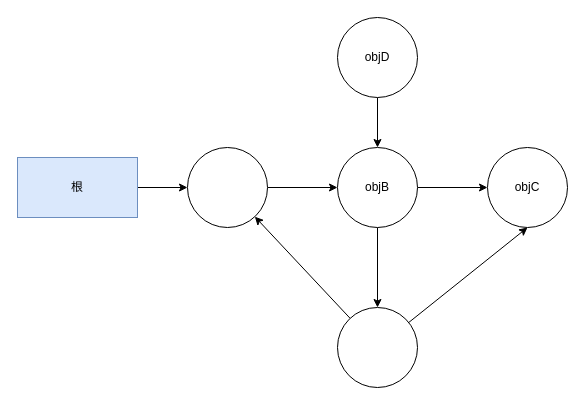
The diagram is 585 pixels wide and 405 high, and some of its shapes have lost their labels. Each missing label, with the box of its shape:
objA: (186, 146, 268, 228)
objE: (336, 306, 418, 388)
